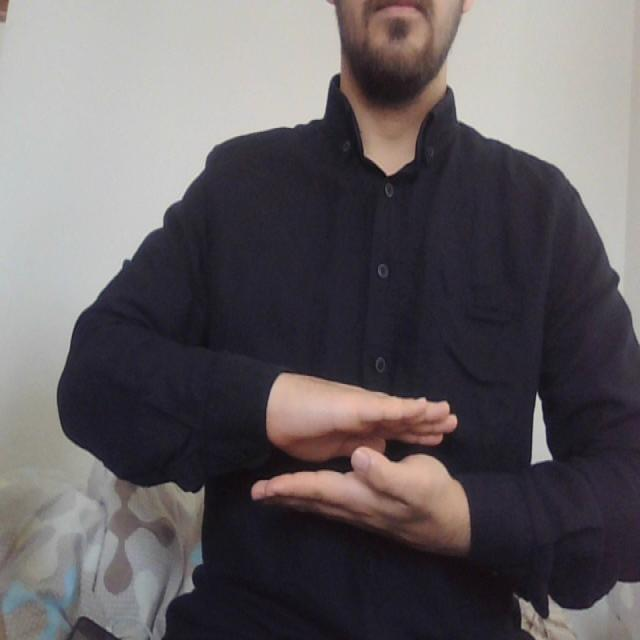Arkadas: (225, 362, 528, 564)
